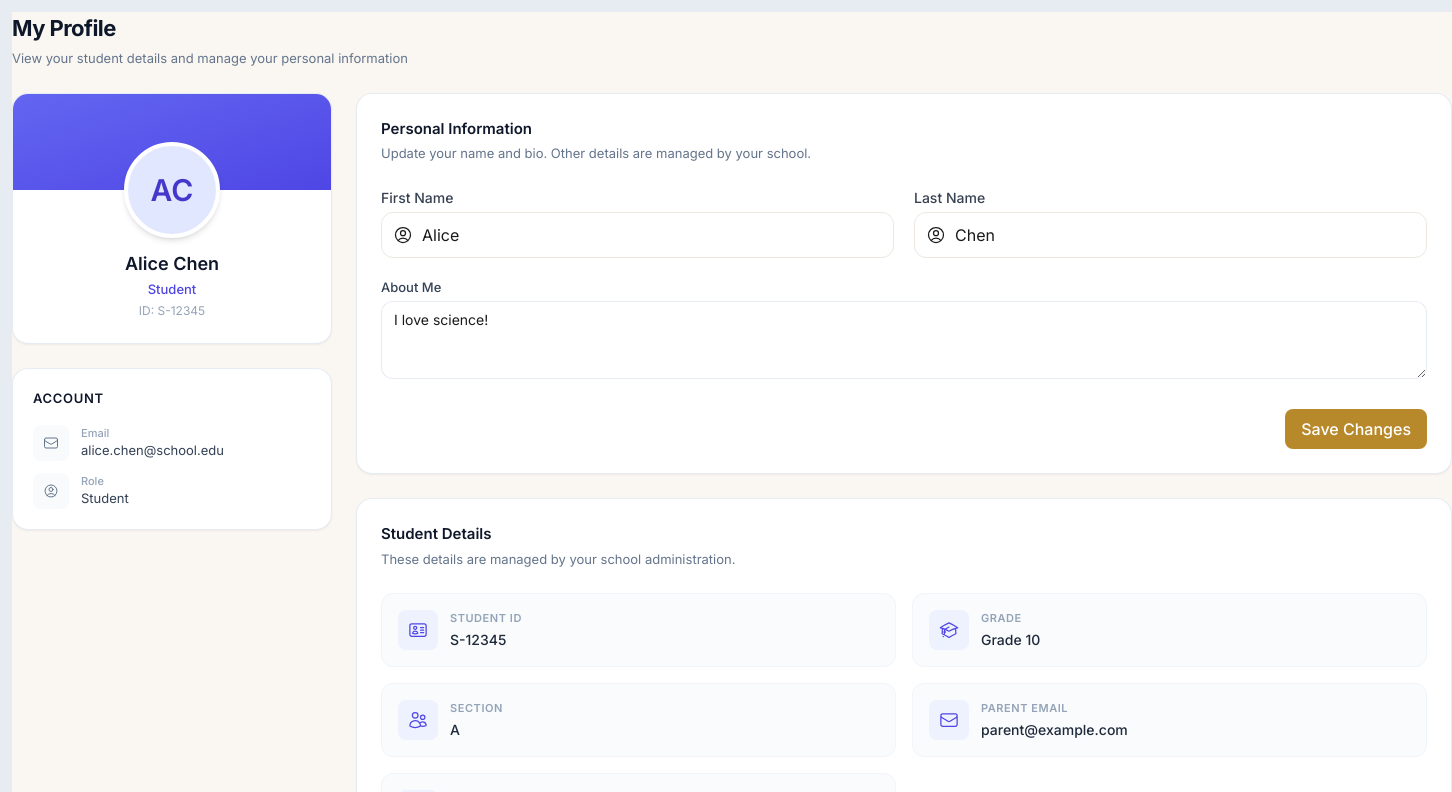
Test: ProfilePage › save changes › shows success toast after a successful save
Click the button "Save Changes".
click(1356, 429)  # box [1285,409,1427,449]
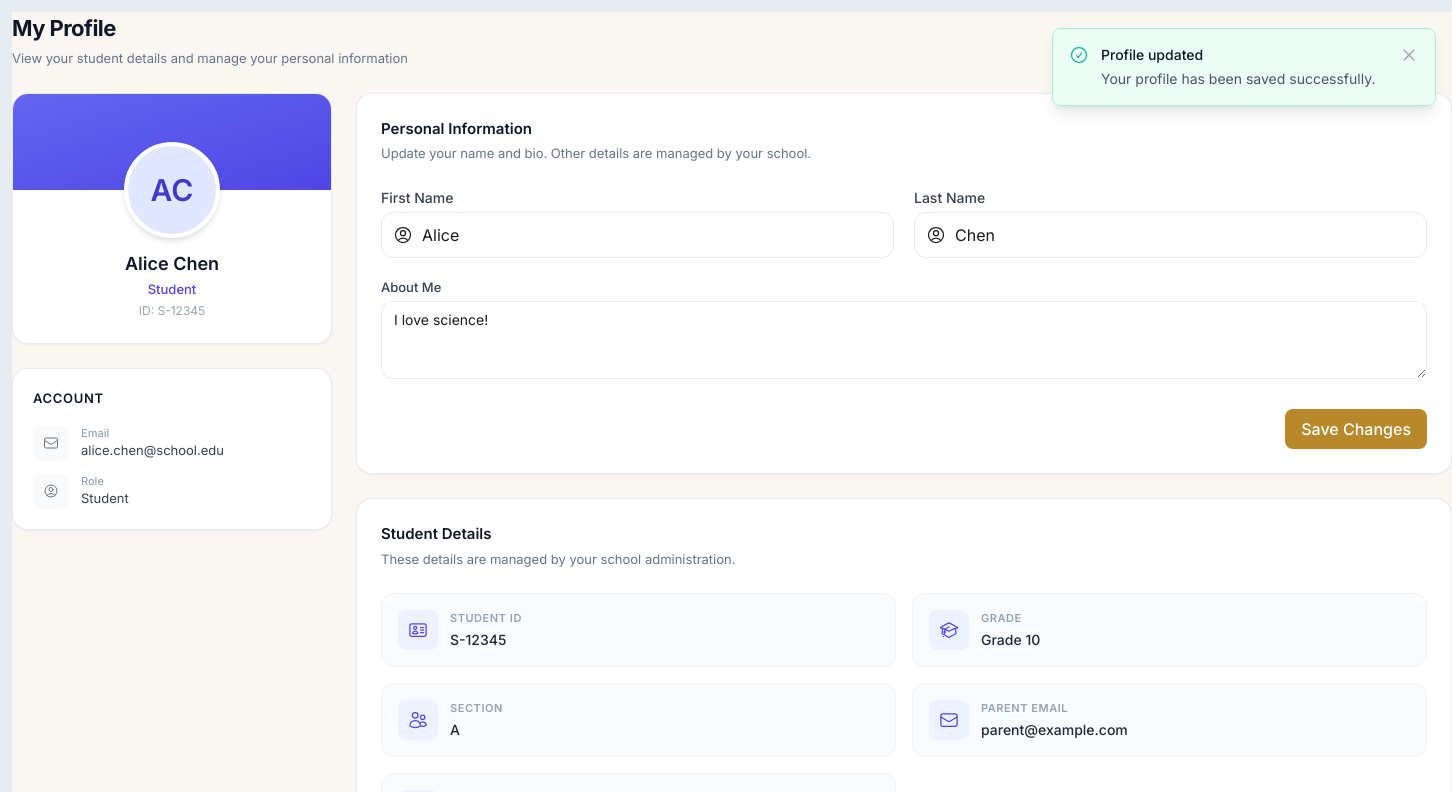
Check: the text "Profile updated" is shown, box [1101,46,1203,63]
